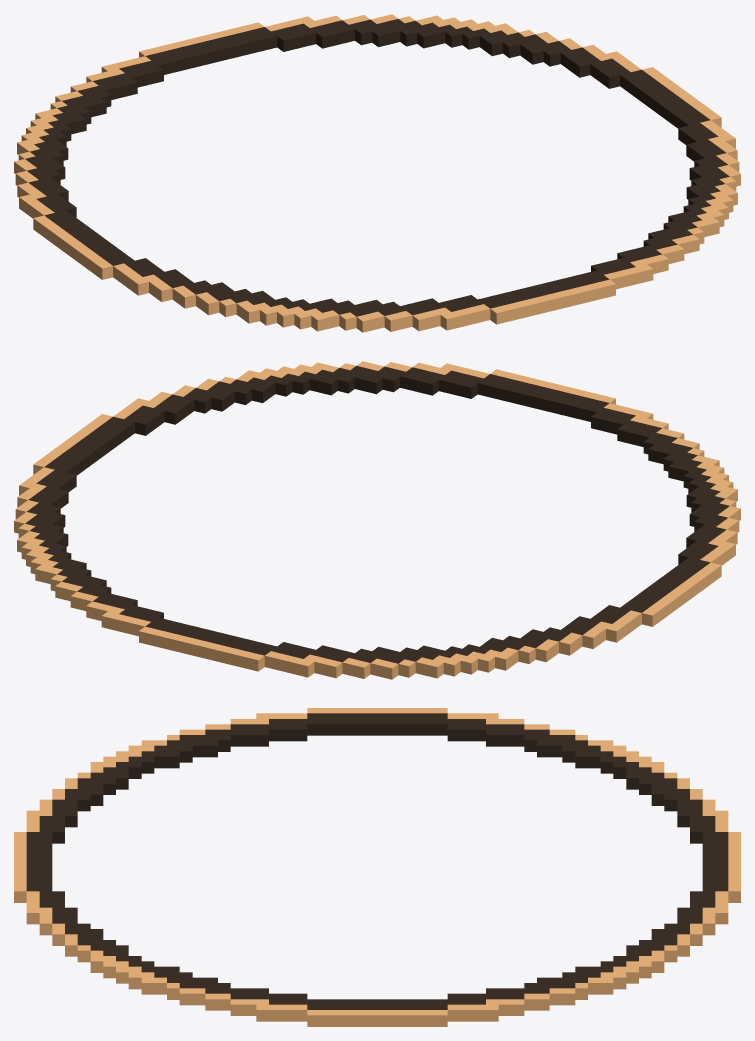
The model's file is Uranus-1.obj.
3 renders of one model, top to bottom at view 1: azimuth 30°, elevation 25°; view 2: azimuth 150°, elevation 25°; view 3: azimuth 270°, elevation 25°, orthographic.
Visible parts, largest first — view 1: Uranus-1; view 2: Uranus-1; view 3: Uranus-1.
Part boxes in pixels (x1=…): Uranus-1: x1=14, y1=14, x2=740, y2=332; Uranus-1: x1=14, y1=361, x2=740, y2=679; Uranus-1: x1=14, y1=708, x2=740, y2=1026.
Bounding box in the file's own units: 57 × 1 × 57.
1 material, 1 textured.
